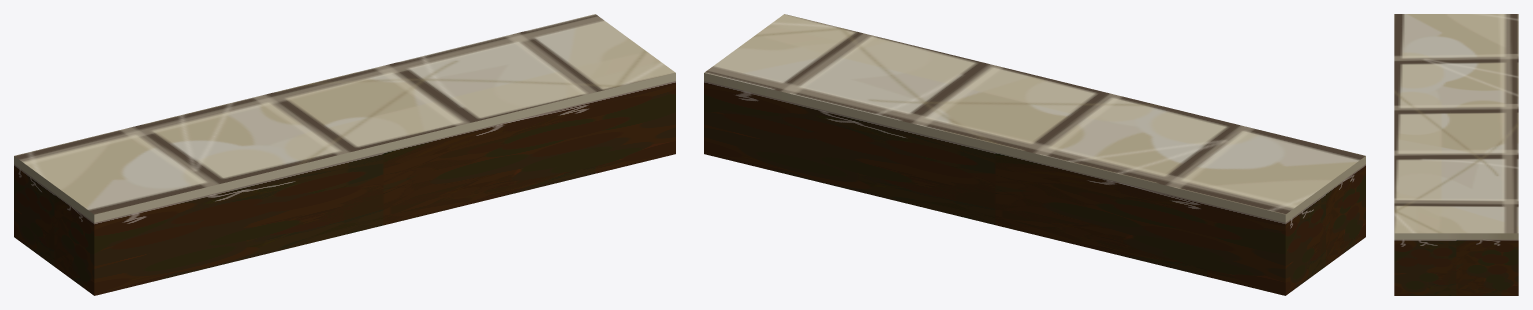
Rendered from PiezaEscaleras.fbx.
3 views of the same model, side by side, from view 1: azimuth 30°, elevation 25°; view 2: azimuth 150°, elevation 25°; view 3: azimuth 270°, elevation 25° (orthographic). The views are drawn at different scales.
Parts seen in each view (by area): view 1: Cube.029; view 2: Cube.029; view 3: Cube.029.
Boxes of the visible parts, box(x1,y1,x2,y2) form: Cube.029: box(14, 14, 675, 295); Cube.029: box(704, 14, 1365, 295); Cube.029: box(1394, 14, 1518, 295).
Bounding box in the file's own units: 604 × 80.7 × 145.
Materials: 3 (2 with a texture image).
